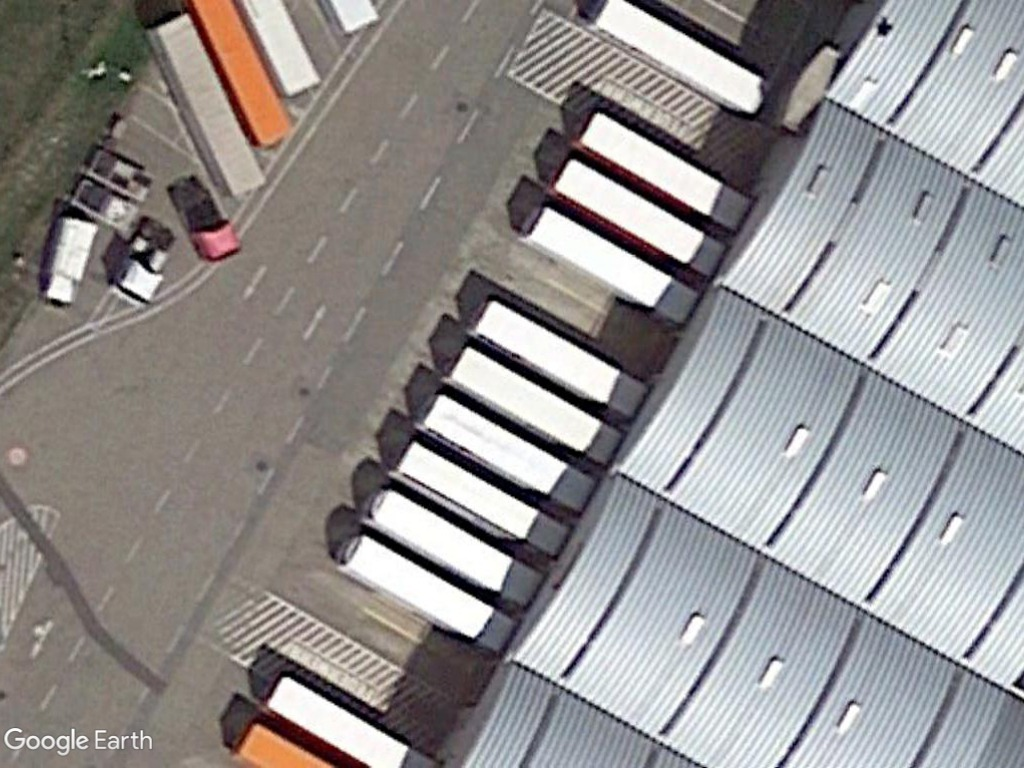longvehicle: (353, 479, 541, 609), (338, 525, 518, 659), (465, 298, 652, 424), (143, 15, 269, 199), (572, 110, 752, 235), (440, 342, 619, 467), (387, 436, 570, 557), (417, 385, 592, 510), (544, 157, 722, 279), (513, 205, 692, 324), (261, 665, 407, 768)
